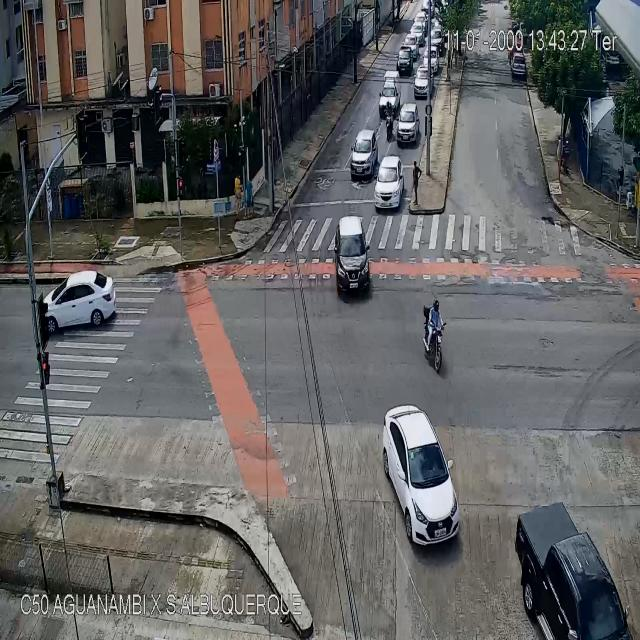Car: (516, 502, 632, 640), (383, 404, 458, 544), (42, 270, 115, 330), (334, 216, 370, 296), (373, 155, 403, 209), (350, 128, 378, 177), (379, 68, 400, 116), (397, 102, 419, 143), (414, 66, 433, 98), (422, 47, 440, 72), (396, 49, 413, 72), (402, 35, 418, 59), (413, 11, 428, 34), (429, 29, 444, 49), (512, 54, 526, 75), (409, 21, 423, 41)
Motorcycle: (422, 297, 445, 374), (385, 100, 394, 141)
